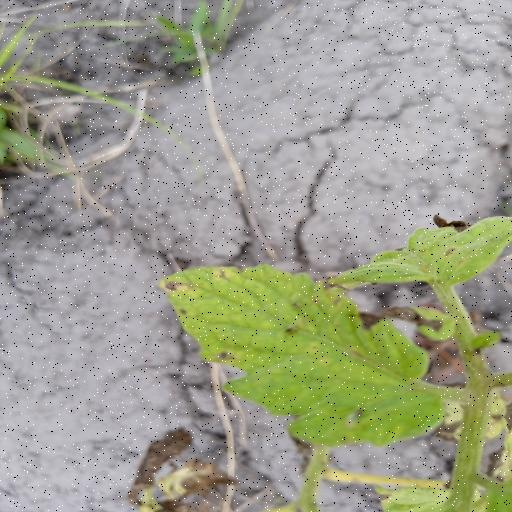Tomato_Brown_Spots: (161, 261, 454, 450)
